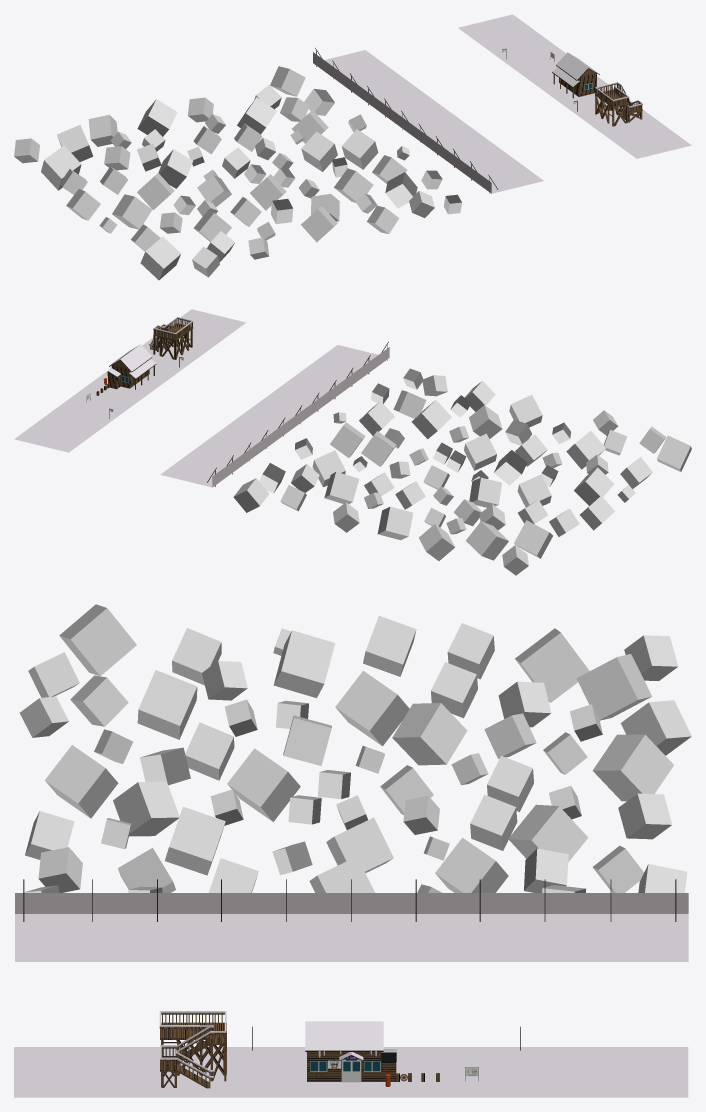
File: kitahama.gltf
The picture shows the model from 3 angles, top to bottom: view 1: azimuth 30°, elevation 25°; view 2: azimuth 150°, elevation 25°; view 3: azimuth 270°, elevation 25°; orthographic projection. The views are drawn at different scales.
Visible parts, largest first — view 1: ryuuhyou1, ryuuhyou3, Cube, Cube.032, Cube.023, Cube.064, Cube.001; view 2: ryuuhyou1, ryuuhyou3, Cube, Cube.032, Cube.023, Cube.064; view 3: ryuuhyou1, ryuuhyou3, Cube.032, Cube, Cube.023, Cube.064, Cube.001, Cube.127, Cube.100.
Boxes of the visible parts, x1,y1,x2,y2 form: ryuuhyou1: (57, 66, 442, 280); ryuuhyou3: (14, 84, 461, 277); Cube: (458, 14, 691, 158); Cube.032: (324, 50, 543, 193); Cube.023: (313, 52, 491, 193); Cube.064: (556, 52, 599, 79); Cube.001: (559, 68, 596, 96); ryuuhyou1: (233, 375, 691, 560); ryuuhyou3: (259, 368, 666, 575); Cube: (14, 309, 245, 452); Cube.032: (160, 345, 378, 487); Cube.023: (212, 347, 389, 487); Cube.064: (109, 344, 152, 371); ryuuhyou1: (19, 604, 687, 892); ryuuhyou3: (24, 615, 691, 892); Cube.032: (15, 914, 688, 961); Cube: (14, 1047, 688, 1097); Cube.023: (15, 893, 688, 913); Cube.064: (305, 1021, 383, 1050); Cube.001: (307, 1052, 381, 1081); Cube.127: (160, 1038, 226, 1088); Cube.100: (160, 1022, 226, 1039).
Size of the model in its own units: 87.85 by 8.98 by 52.22.
11 materials, 5 textured.
